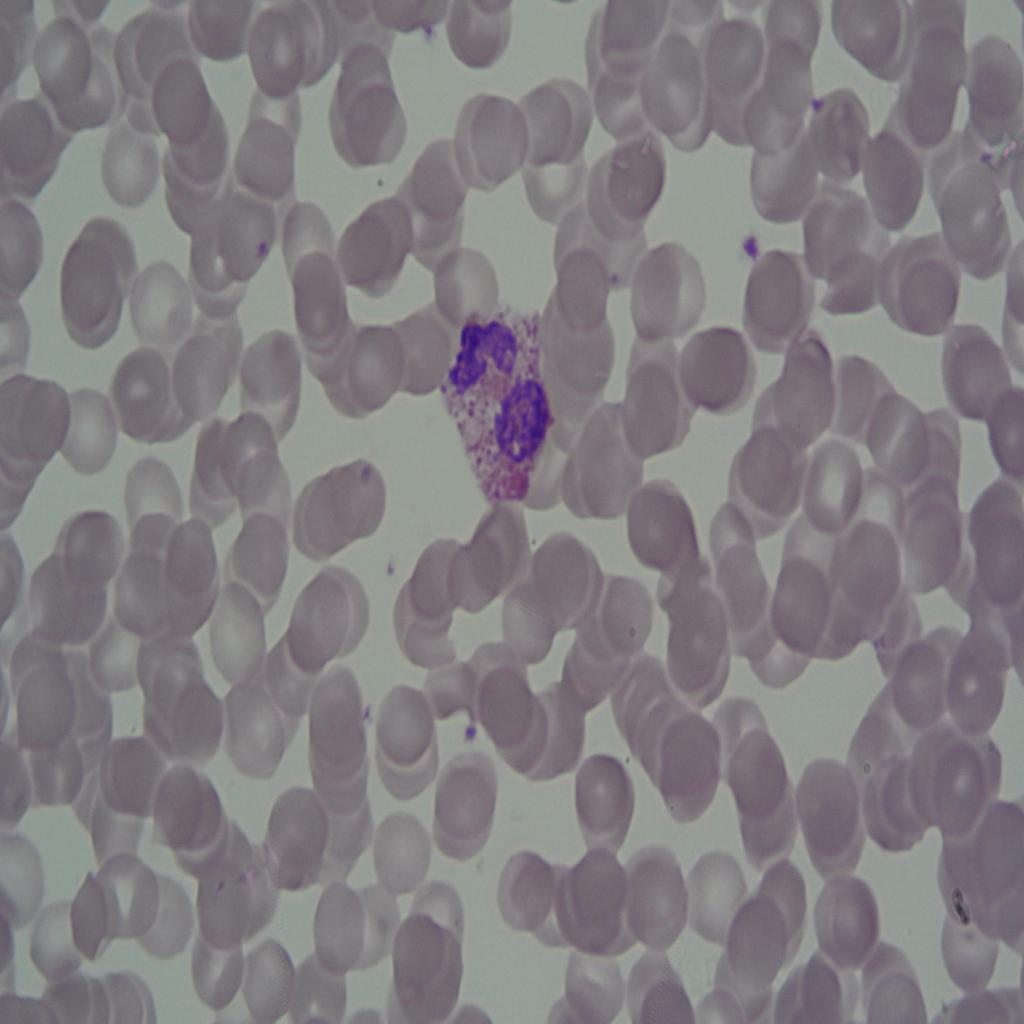Eosinofil: (433, 281, 557, 510)
Platelet: (240, 237, 286, 284), (454, 716, 490, 760), (378, 543, 399, 591), (732, 232, 763, 260), (357, 453, 378, 486), (361, 698, 377, 727)
